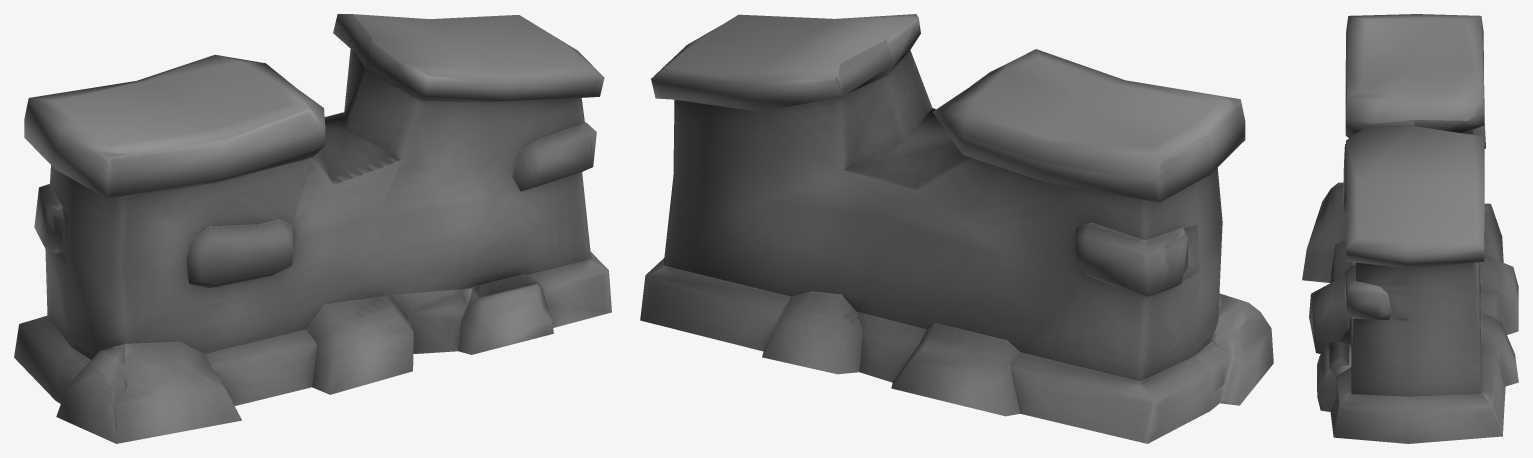
File: wall3.FBX
3 renders of one model, left to right at view 1: azimuth 30°, elevation 25°; view 2: azimuth 150°, elevation 25°; view 3: azimuth 270°, elevation 25°, orthographic. The views are drawn at different scales.
Parts seen in each view (by area): view 1: wall3; view 2: wall3; view 3: wall3.
Part boxes in pixels (x1,y1,x2,y2): wall3: [14, 14, 611, 443]; wall3: [640, 14, 1273, 443]; wall3: [1302, 14, 1518, 443].
Size of the model in its own units: 657 by 340 by 281.
